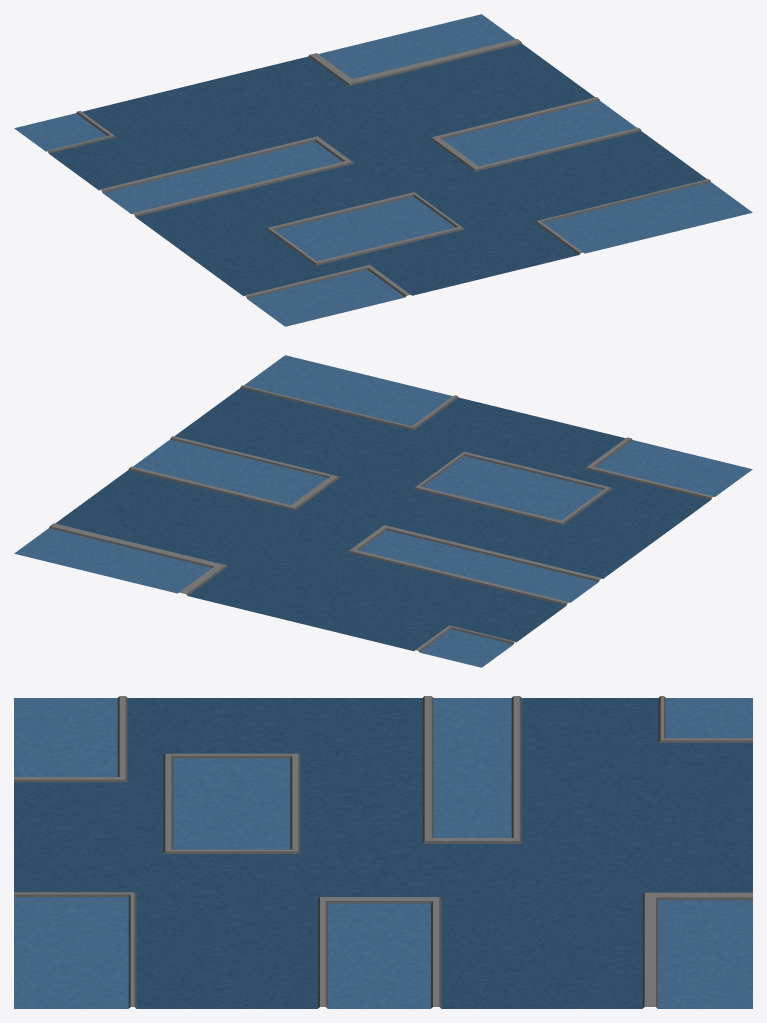
File: Electronics Floor.fbx
3 renders of one model, top to bottom at view 1: azimuth 30°, elevation 25°; view 2: azimuth 150°, elevation 25°; view 3: azimuth 270°, elevation 25°, orthographic. The views are drawn at different scales.
Parts seen in each view (by area): view 1: Object085; view 2: Object085; view 3: Object085.
Part boxes in pixels (x1,y1,x2,y2): Object085: (14,14,752,326); Object085: (14,355,752,667); Object085: (14,696,752,1008).
Size of the model in its own units: 351 by 1 by 352.
Materials: 1 (1 with a texture image).
